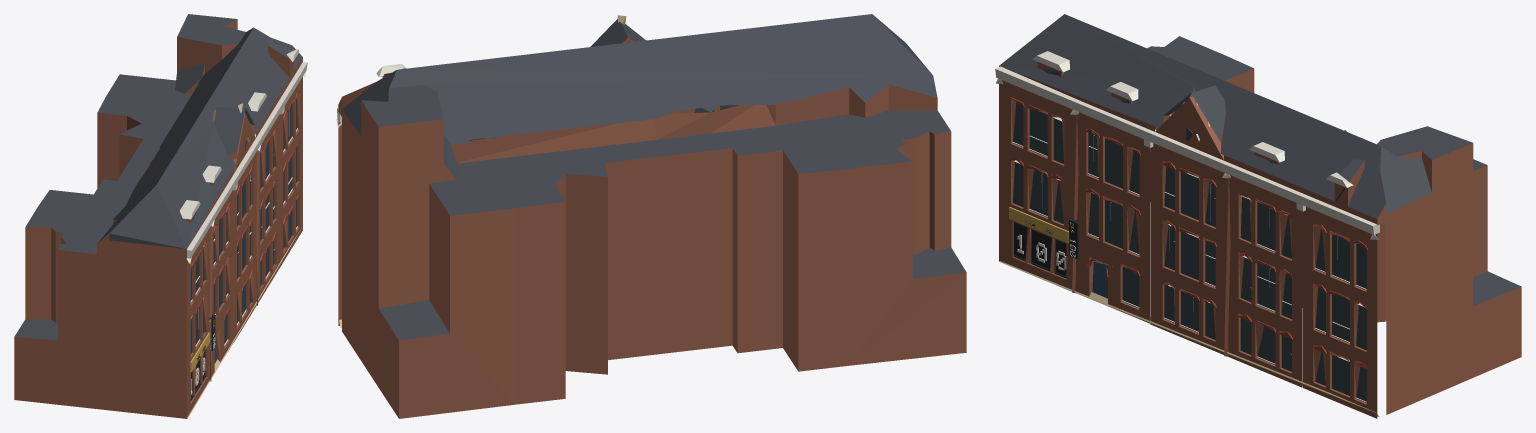
File: zaal-100.lod1.glb
3 views of the same model, side by side, from view 1: azimuth 30°, elevation 25°; view 2: azimuth 150°, elevation 25°; view 3: azimuth 270°, elevation 25° (orthographic). The views are drawn at different scales.
Parts seen in each view (by area): view 1: zaal-100; view 2: zaal-100; view 3: zaal-100.
Boxes of the visible parts, x1,y1,x2,y2 form: zaal-100: (14,14,307,418); zaal-100: (336,14,966,418); zaal-100: (995,14,1521,418).
Size of the model in its own units: 37.44 by 19.95 by 37.67.
